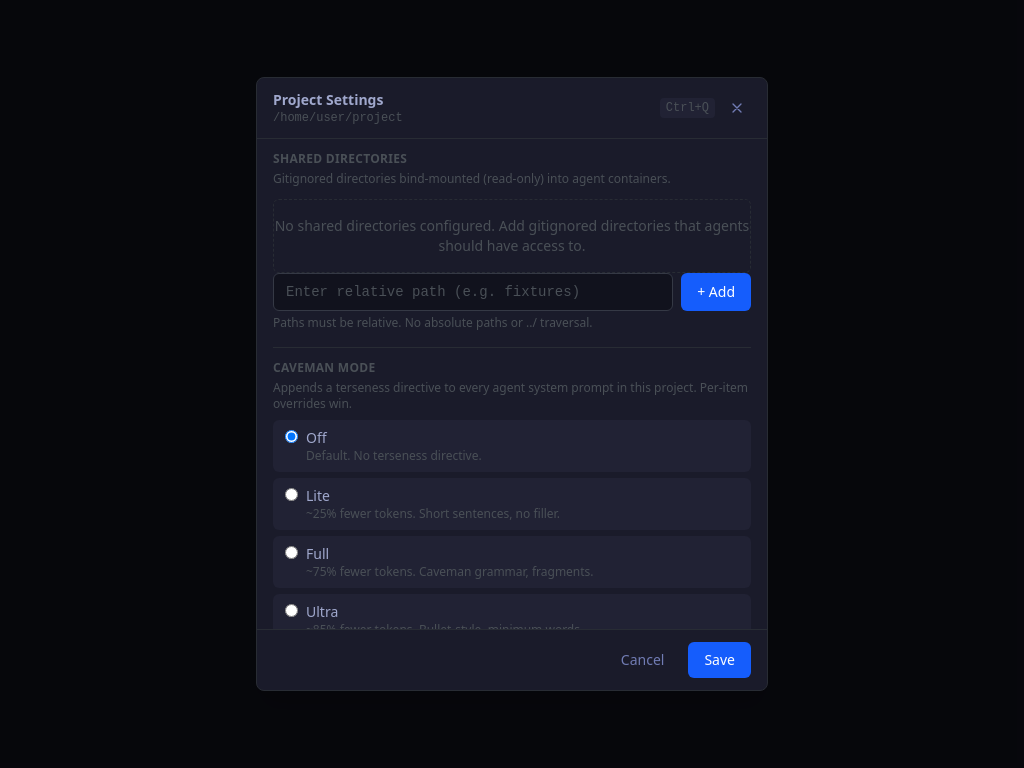
it: ProjectConfigDialog › adds a valid directory entry
The width and height of the screenshot is (1024, 768).
Type "fixtures" into the field with test id "add-dir-input" at coordinates (473, 292), box top-left (273, 273), bottom-right (673, 311)
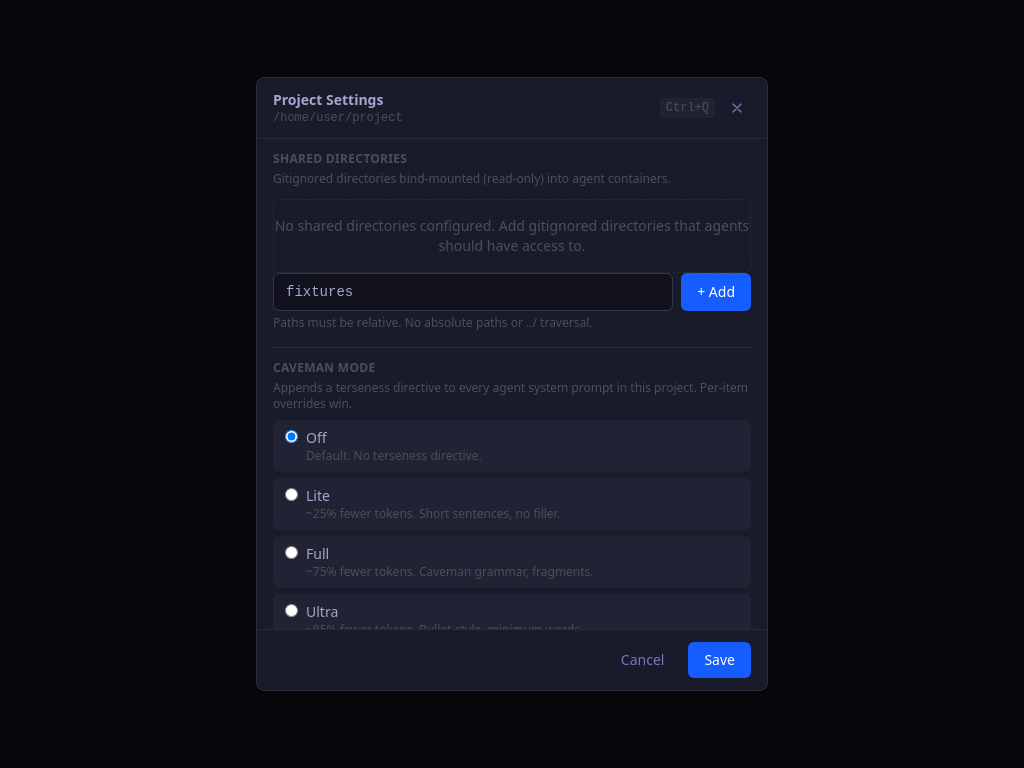
Click the button with test id "add-dir-button" at coordinates (716, 292), box top-left (681, 273), bottom-right (751, 311)
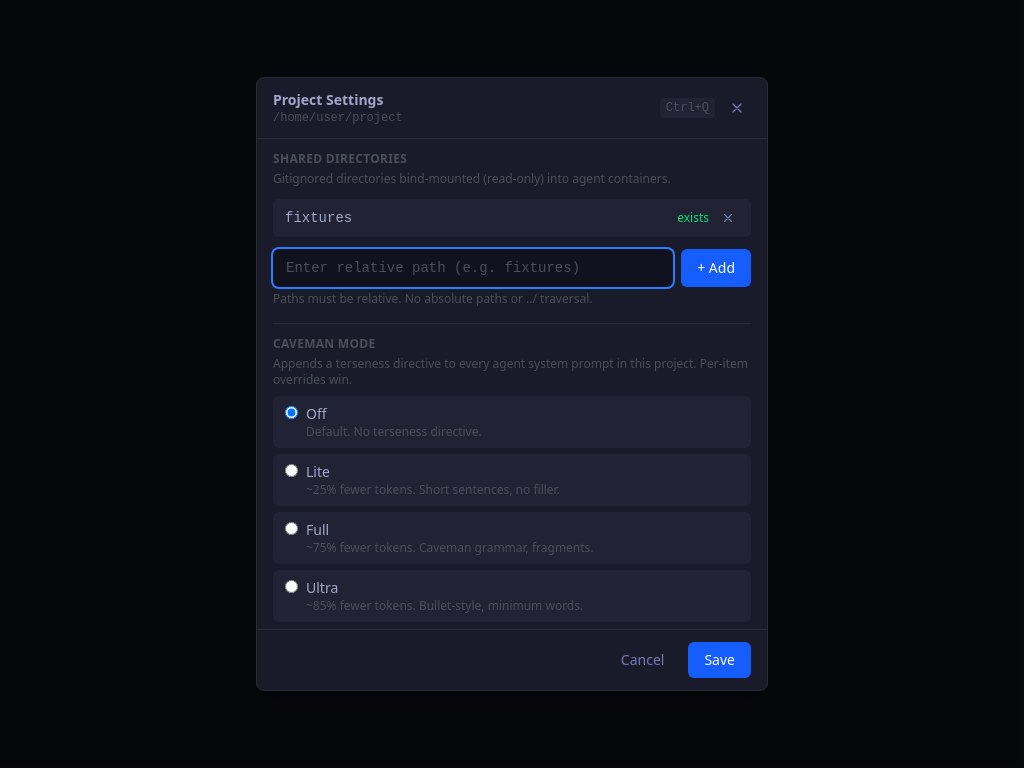
Check: the element with test id "shared-dir-fixtures" is shown, box top-left (273, 199), bottom-right (751, 237)
